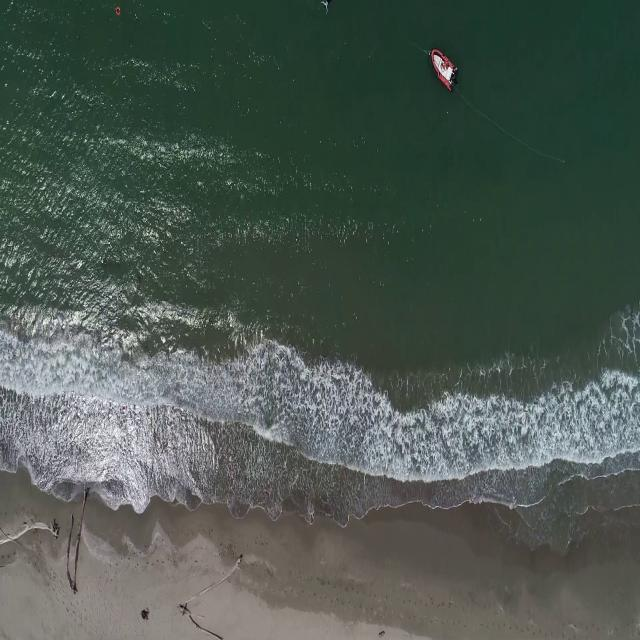boat: (431, 47, 459, 92)
life_buoy: (114, 5, 123, 17)
wood: (176, 557, 243, 607), (67, 488, 88, 600), (178, 602, 226, 639), (0, 520, 63, 544)
